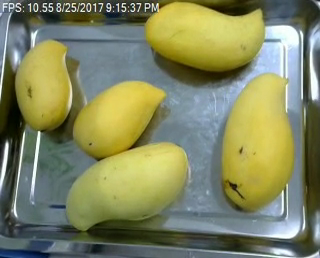Mango: (63, 143, 189, 236), (222, 74, 294, 211), (142, 2, 265, 71), (71, 77, 167, 159), (14, 38, 73, 132)
